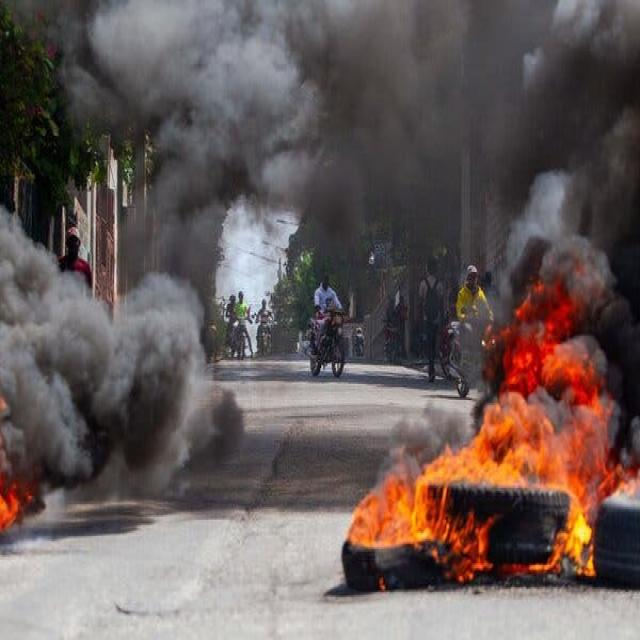fire: (424, 394, 611, 485), (346, 475, 449, 543), (445, 511, 495, 584), (552, 510, 594, 578)
